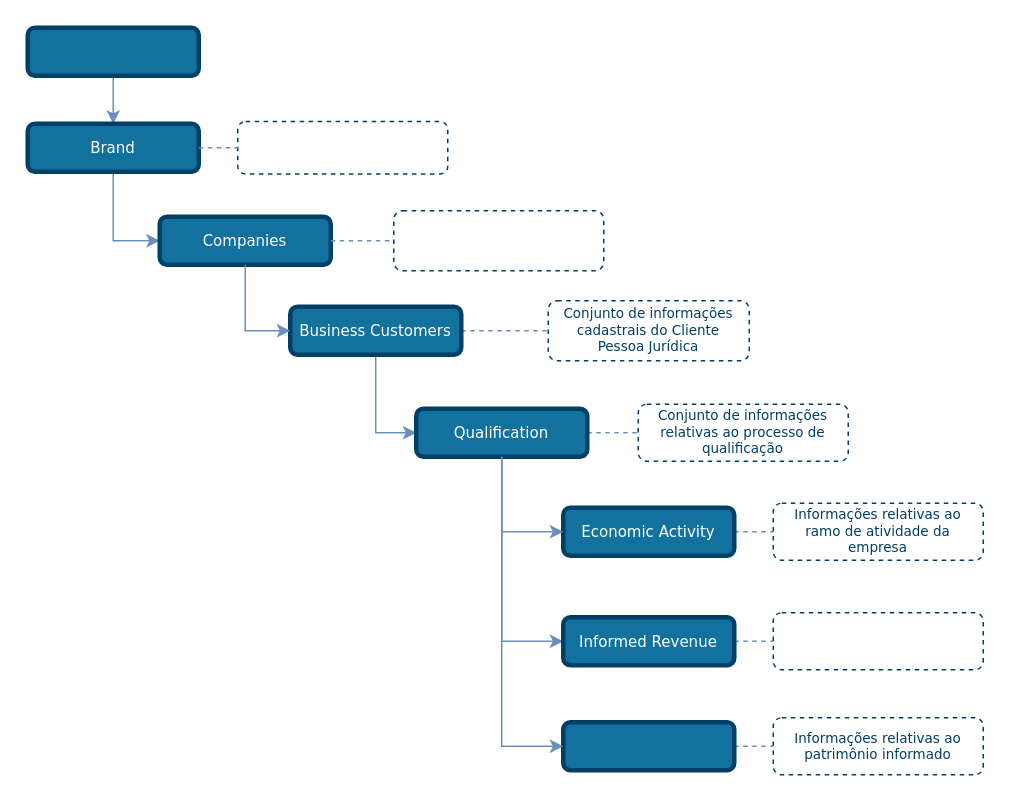
Some shapes in this 1010 by 801 pixel diagram are drawn without their labels. Each missing label, with the centre of its shape:
Conjunto de informações sobre a instituição financeira: point 498,240
Dados da Marca selecionada pelas Organizações: point 342,147
Data: point 112,51
Informações relativas ao faturamento informado: point 877,640
Informed Patrimony: point 648,745
